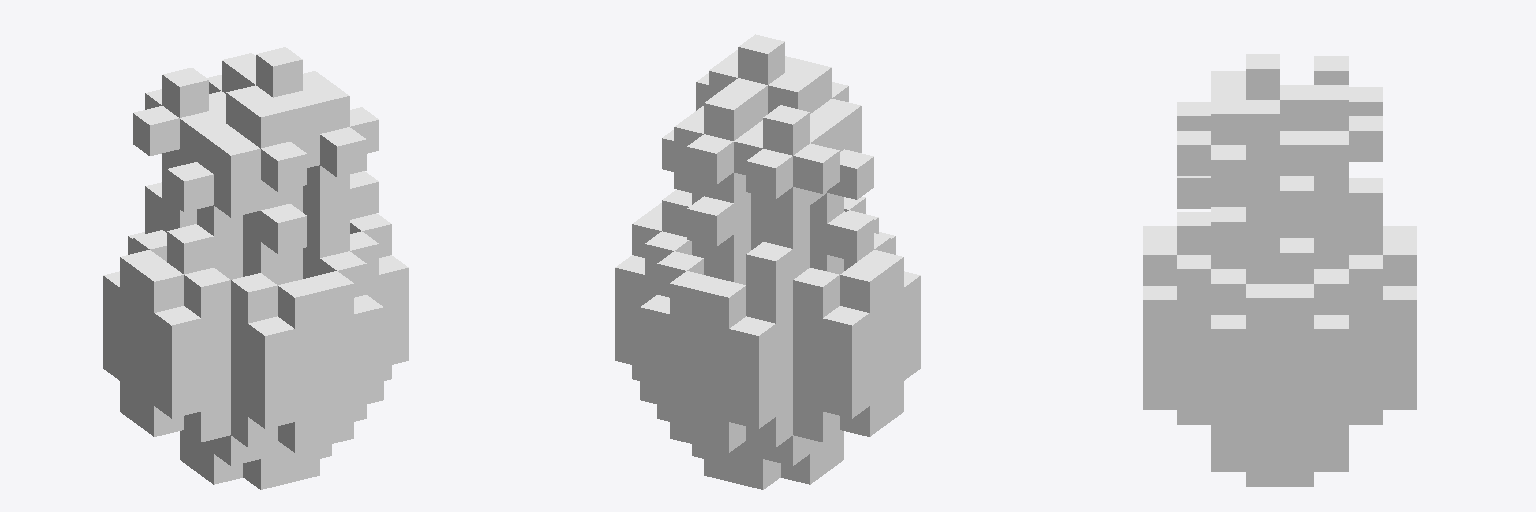
Rendered from prop_pot_flower.obj.
3 renders of one model, left to right at view 1: azimuth 30°, elevation 25°; view 2: azimuth 150°, elevation 25°; view 3: azimuth 270°, elevation 25°, orthographic.
Visible parts, largest first — view 1: object 1; view 2: object 1; view 3: object 1.
Part boxes in pixels (left/top/right/bottom): object 1: left=103, top=47, right=408, bottom=489; object 1: left=615, top=34, right=920, bottom=489; object 1: left=1143, top=54, right=1416, bottom=486.
Bounding box in the file's own units: 0.8 × 1.3 × 0.8.